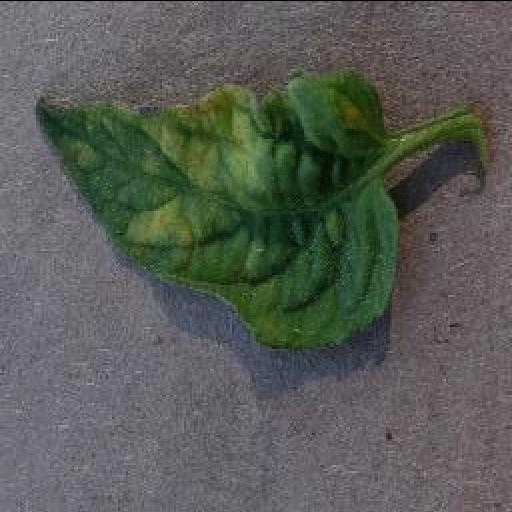disease_tomato: (33, 66, 403, 350)
